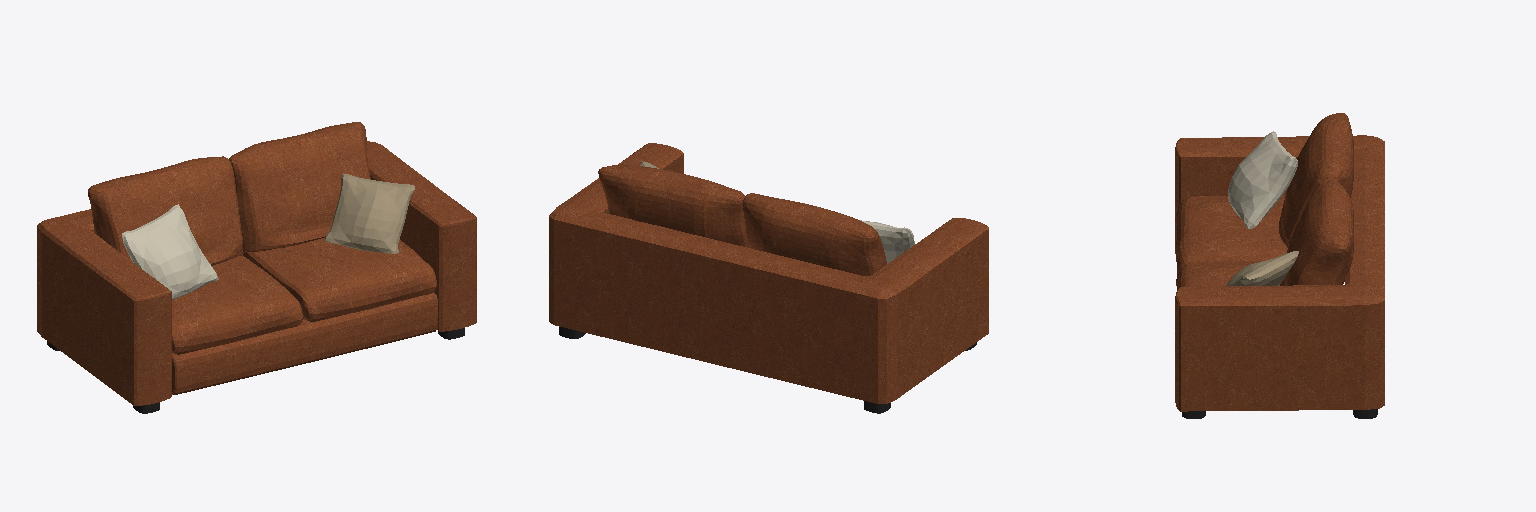
The picture shows the model from 3 angles: view 1: azimuth 30°, elevation 25°; view 2: azimuth 150°, elevation 25°; view 3: azimuth 270°, elevation 25°; orthographic projection.
Parts seen in each view (by area): view 1: back_Plane.005, bigcushion2.002_Cube.024, base_Cube.021, bigcushion2_Cube.022, base_big_cushion2_Cube.001, base_big_cushion_Cube, cushion_dark_Cube.018, cushion_clear_Cube.019; view 2: back_Plane.005, bigcushion2.002_Cube.024, bigcushion2_Cube.022, cushion_clear_Cube.019; view 3: back_Plane.005, base_big_cushion_Cube, bigcushion2.002_Cube.024, bigcushion2_Cube.022, cushion_clear_Cube.019, base_big_cushion2_Cube.001, cushion_dark_Cube.018.
Boxes of the visible parts, box(x1,y1,x2,y2) form: back_Plane.005: box(37, 141, 476, 405); bigcushion2.002_Cube.024: box(229, 122, 370, 251); base_Cube.021: box(172, 292, 437, 394); bigcushion2_Cube.022: box(88, 156, 243, 265); base_big_cushion2_Cube.001: box(243, 238, 436, 321); base_big_cushion_Cube: box(172, 255, 302, 354); cushion_dark_Cube.018: box(324, 174, 414, 253); cushion_clear_Cube.019: box(122, 204, 218, 299); back_Plane.005: box(549, 143, 988, 403); bigcushion2.002_Cube.024: box(598, 165, 749, 247); bigcushion2_Cube.022: box(742, 193, 886, 275); cushion_clear_Cube.019: box(860, 220, 914, 263); back_Plane.005: box(1175, 135, 1384, 411); base_big_cushion_Cube: box(1176, 195, 1287, 274); bigcushion2.002_Cube.024: box(1280, 177, 1353, 285); bigcushion2_Cube.022: box(1279, 113, 1353, 247); cushion_clear_Cube.019: box(1228, 131, 1297, 228); base_big_cushion2_Cube.001: box(1176, 261, 1279, 289); cushion_dark_Cube.018: box(1226, 251, 1298, 285).
Size of the model in its own units: 170 by 79.72 by 89.96.
4 materials, 1 textured.